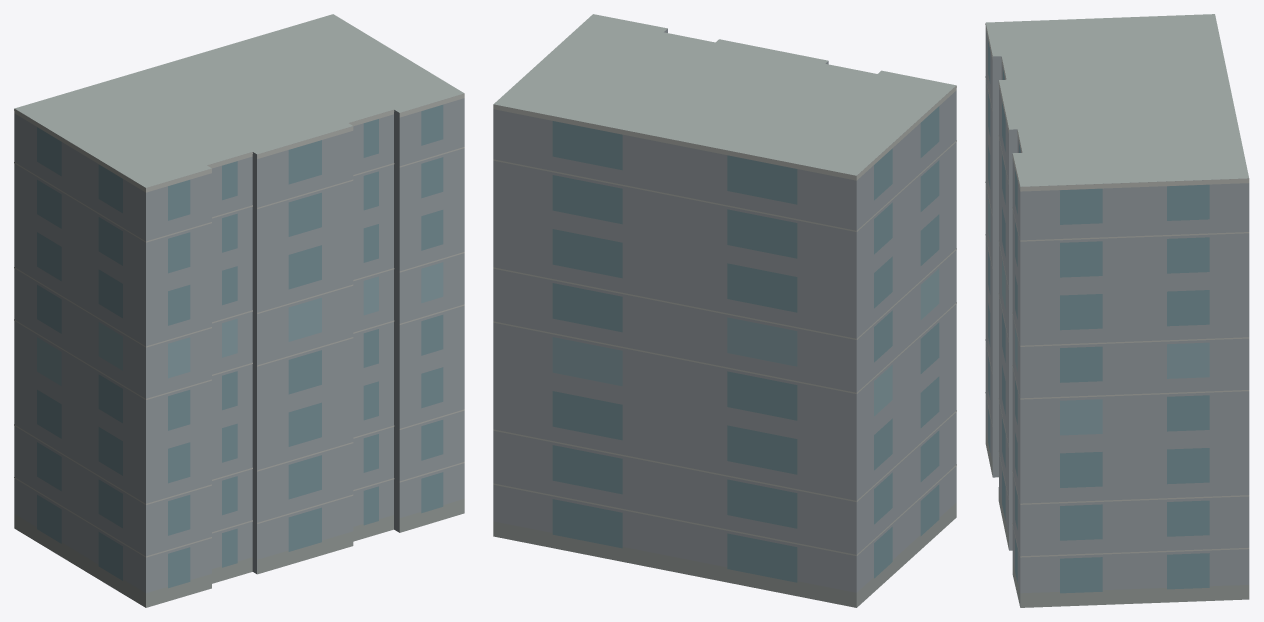
The model's file is survey-upis-32974833.glb.
The picture shows the model from 3 angles, left to right: view 1: azimuth 30°, elevation 25°; view 2: azimuth 150°, elevation 25°; view 3: azimuth 270°, elevation 25°; orthographic projection. The views are drawn at different scales.
Parts seen in each view (by area): view 1: survey-upis-32974833.tmp; view 2: survey-upis-32974833.tmp; view 3: survey-upis-32974833.tmp.
Boxes of the visible parts, bbox=[...] form: survey-upis-32974833.tmp: bbox=[14, 14, 464, 607]; survey-upis-32974833.tmp: bbox=[493, 14, 956, 607]; survey-upis-32974833.tmp: bbox=[985, 14, 1249, 607].
Size of the model in its own units: 19.13 by 21.7 by 12.34.
